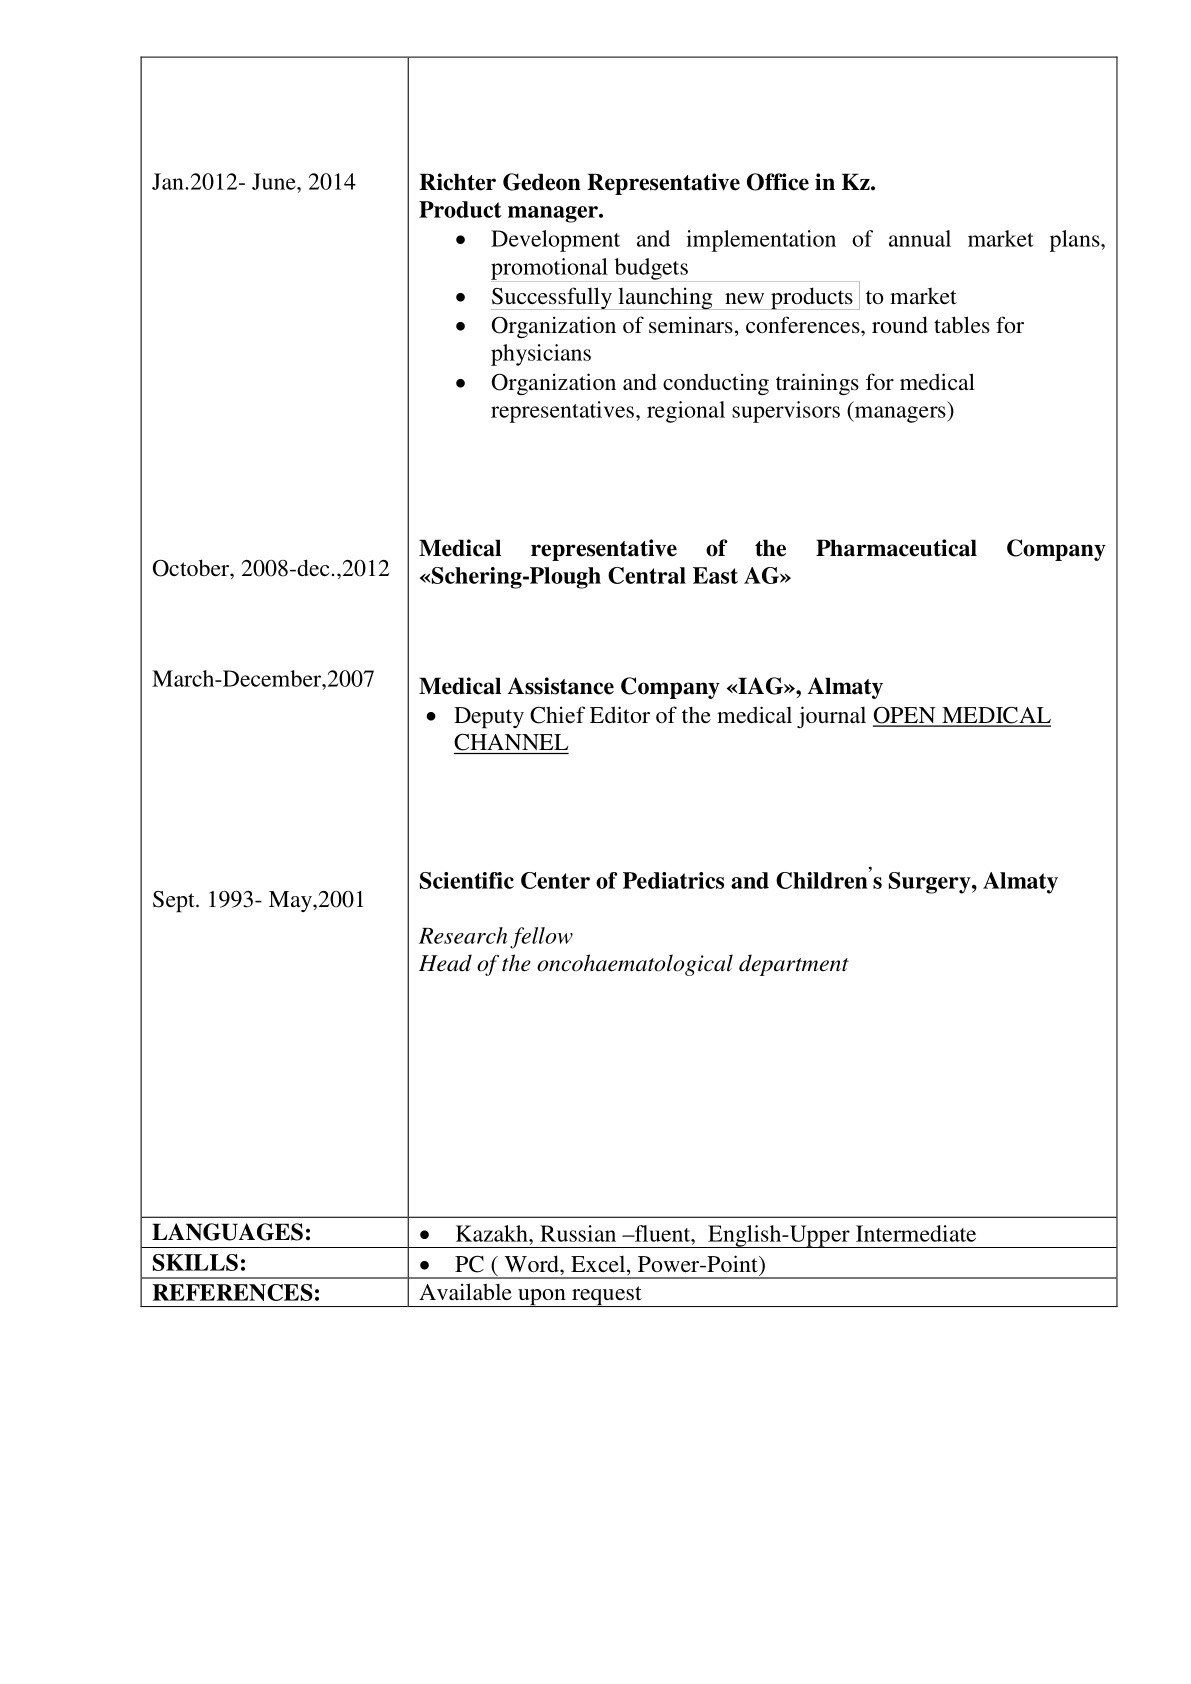full_lined: (139, 55, 1118, 1308)
